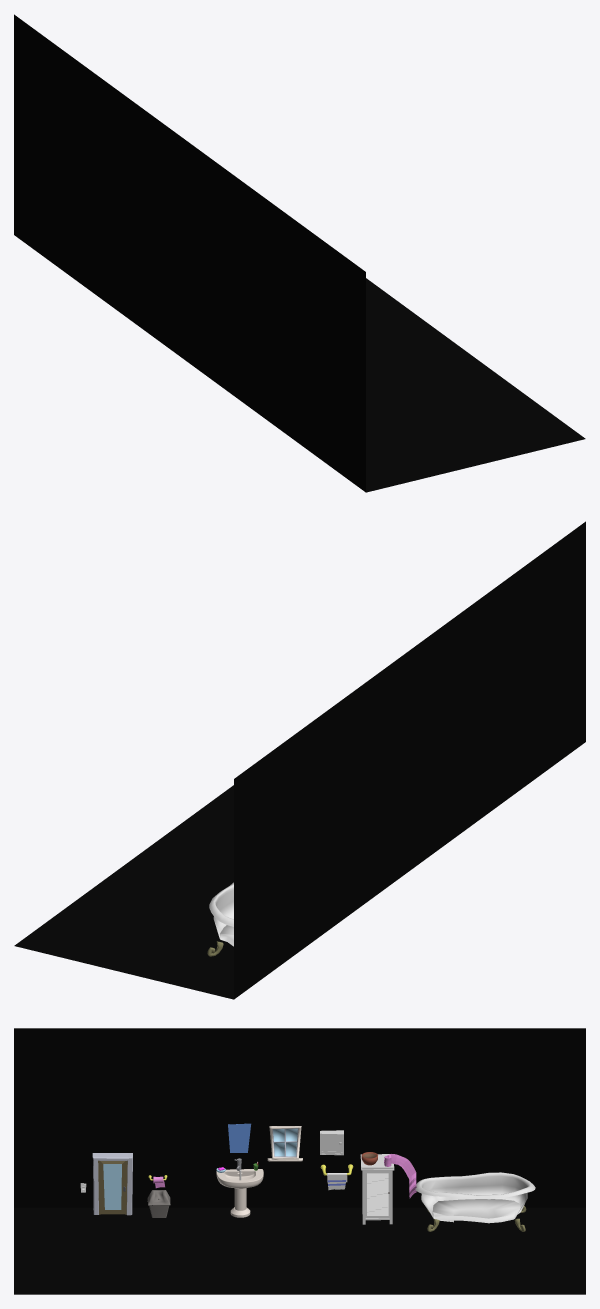
Rendered from SALLE DE BAIN ENTIER.glb.
The picture shows the model from 3 angles, top to bottom: view 1: azimuth 30°, elevation 25°; view 2: azimuth 150°, elevation 25°; view 3: azimuth 270°, elevation 25°; orthographic projection. The views are drawn at different scales.
Visible parts, largest first — view 1: Cube.012; view 2: Cube.012, Cube.008; view 3: Cube.012, Cube.008, Cube.003, Sphère, Cylinder, Cube, Couche miroir.001, Cube.006, Cube.005, Cylinder.004.
Boxes of the visible parts, x1,y1,x2,y2 form: Cube.012: (14,14,585,492); Cube.012: (14,521,585,999); Cube.008: (207,882,233,956); Cube.012: (14,1028,585,1294); Cube.008: (415,1172,535,1231); Cube.003: (92,1153,132,1215); Sphère: (360,1154,394,1224); Cylinder: (216,1169,263,1217); Cube: (267,1126,302,1161); Couche miroir.001: (228,1123,251,1152); Cube.006: (320,1130,343,1155); Cube.005: (147,1190,170,1217); Cylinder.004: (384,1154,416,1198).
Size of the model in its own units: 120 by 116 by 334.
